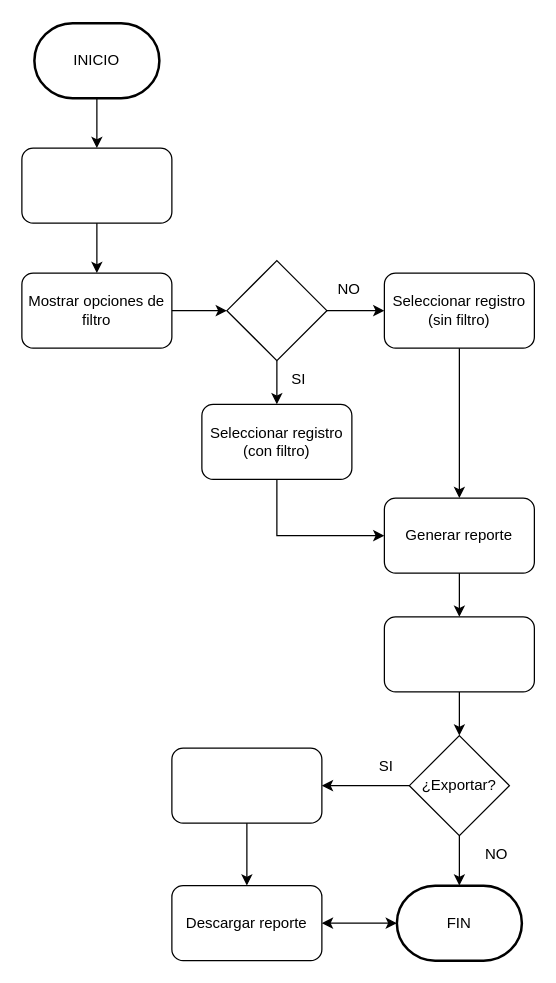
The diagram is 556 pixels wide and 983 high, and some of its shapes have lost their labels. The box of each missing label's shape, as (x1, y1, x2, y2) in pixels:
Generar PDF: (171, 747, 322, 823)
Mostrar reporte: (383, 616, 534, 692)
Realizar reporte de Residuos: (21, 147, 172, 223)
¿Usar filtros?: (226, 259, 327, 361)
